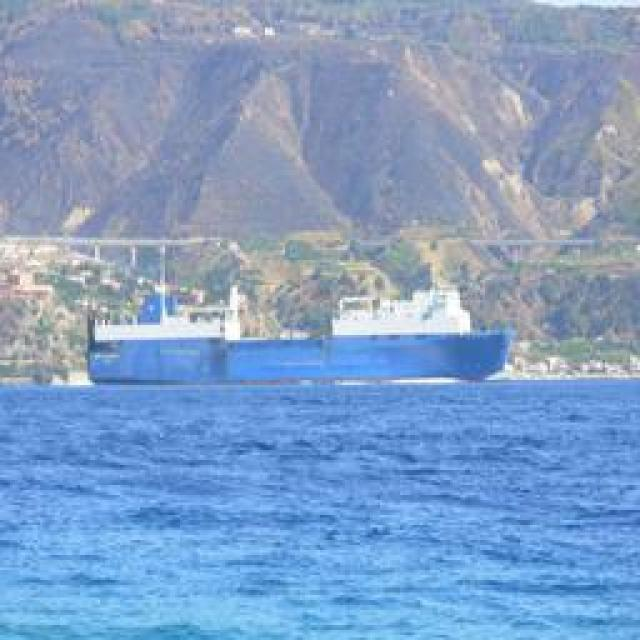ship2: (84, 255, 510, 386)
